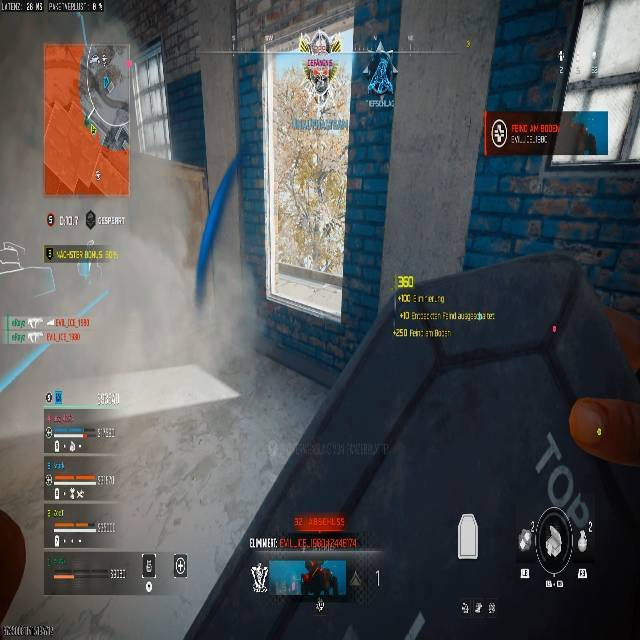player: (302, 559, 336, 612)
